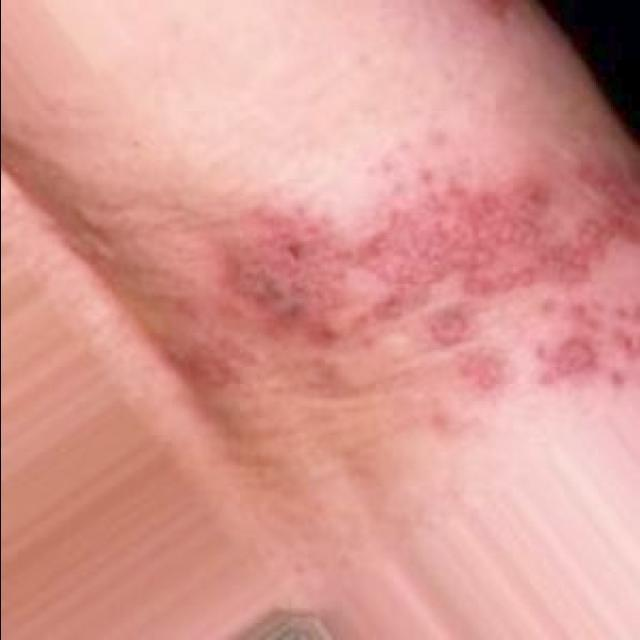Shingles: (229, 160, 640, 386)
